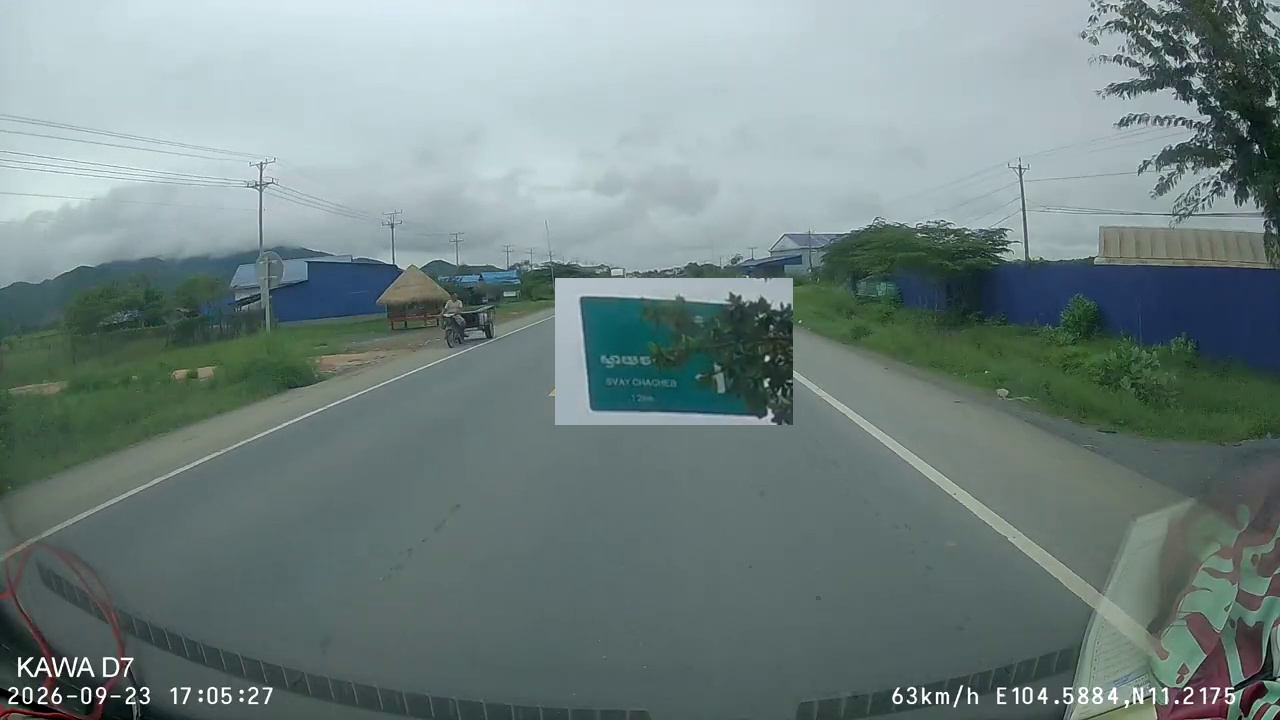direction_sign: (555, 278, 793, 425)
